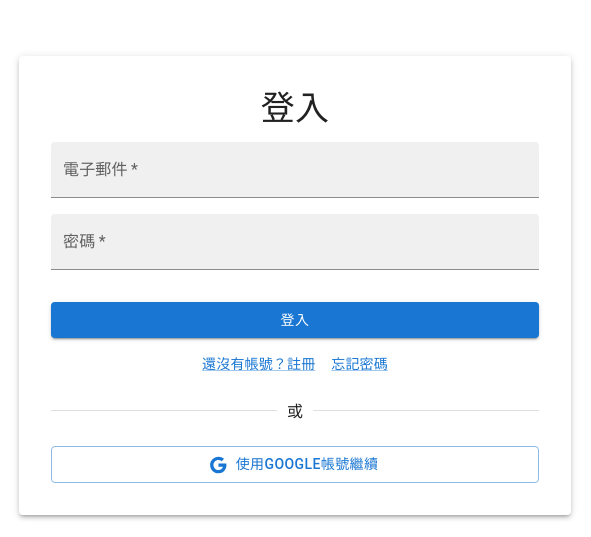
Test case: Login › Password Reset › handles successful password reset request
The image size is (591, 537).
Type "test@example.com" into the field labelled "電子郵件 *". click: coordinates (295, 170)
box: [51,142,539,198]
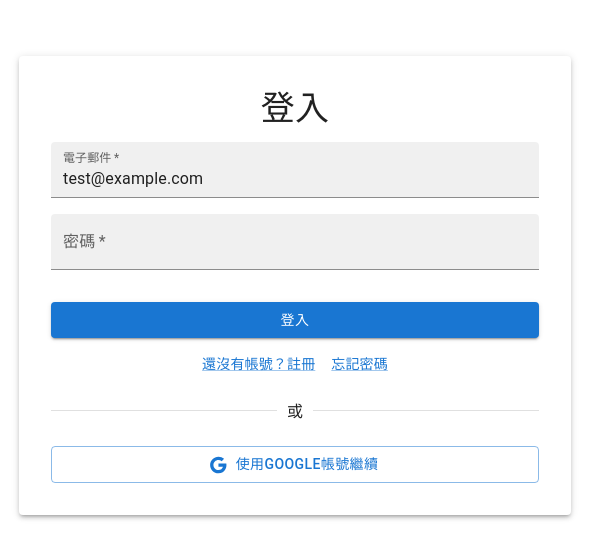
Click the button "忘記密碼". click: coordinates (360, 364)
box: [331,354,388,374]
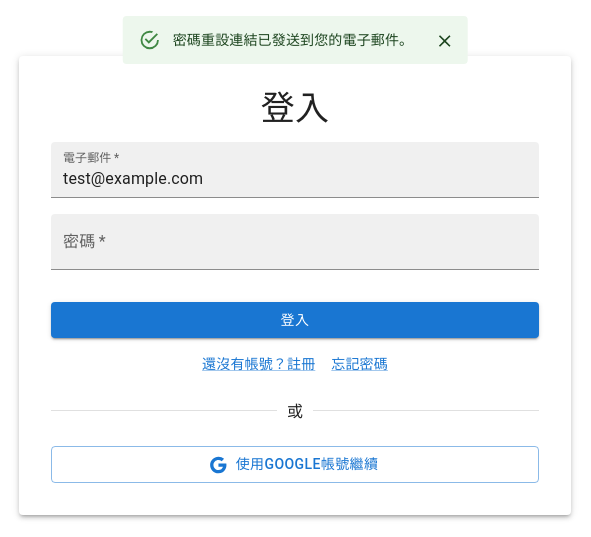
Expected: the message "密碼重設連結已發送到您的電子郵件。" is shown, [123,16,467,64]
Expected: the message reads "密碼重設連結已發送到您的電子郵件。", [173,32,413,48]
